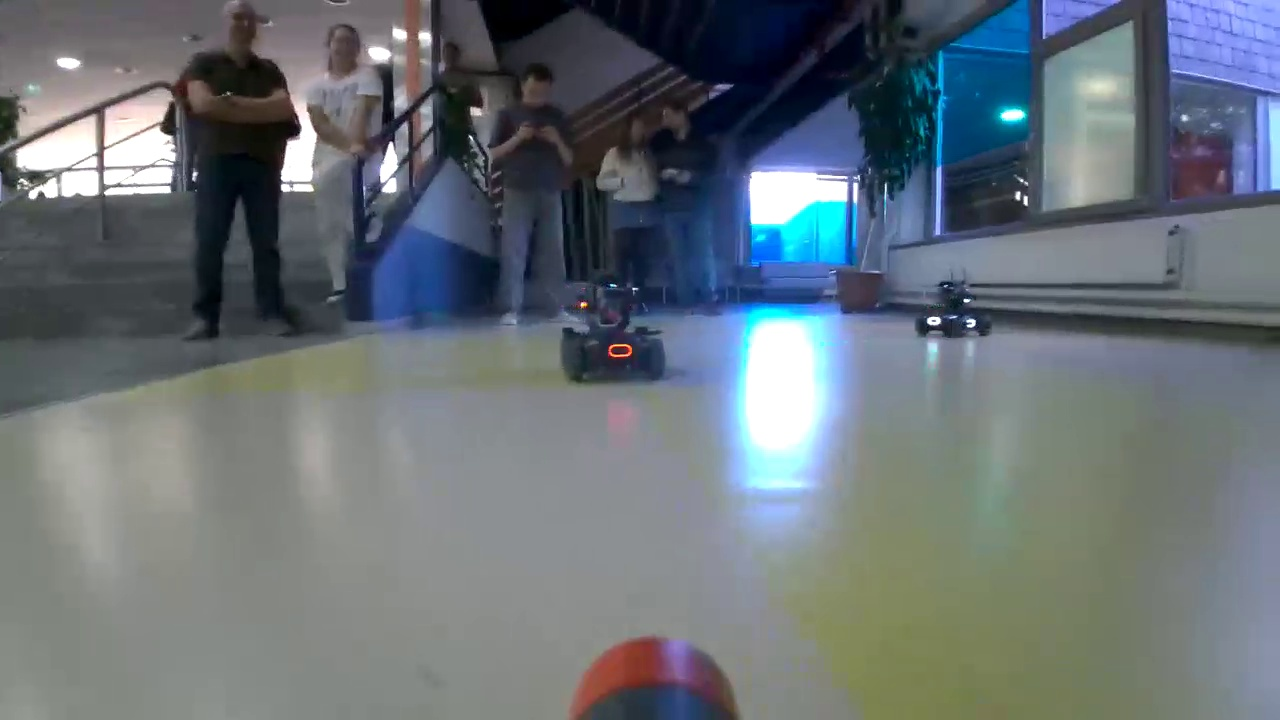robot: (556, 276, 668, 386), (912, 282, 992, 340)
